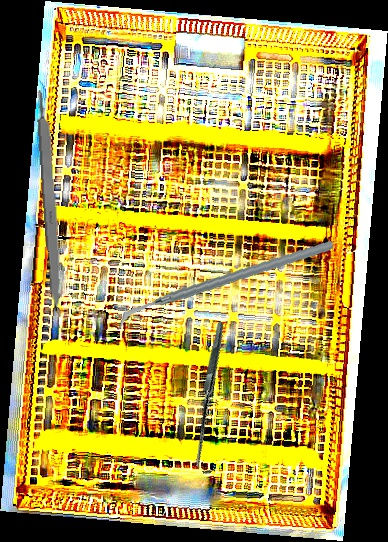Chopper: (116, 221, 334, 348)
Hook Surgical: (135, 321, 292, 477)
Scalpel Handle: (35, 89, 66, 312)
